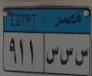1: (18, 38, 26, 65), (28, 39, 35, 65)
9: (8, 36, 18, 64)
seen: (60, 46, 74, 67), (74, 48, 88, 67), (46, 47, 59, 66)
